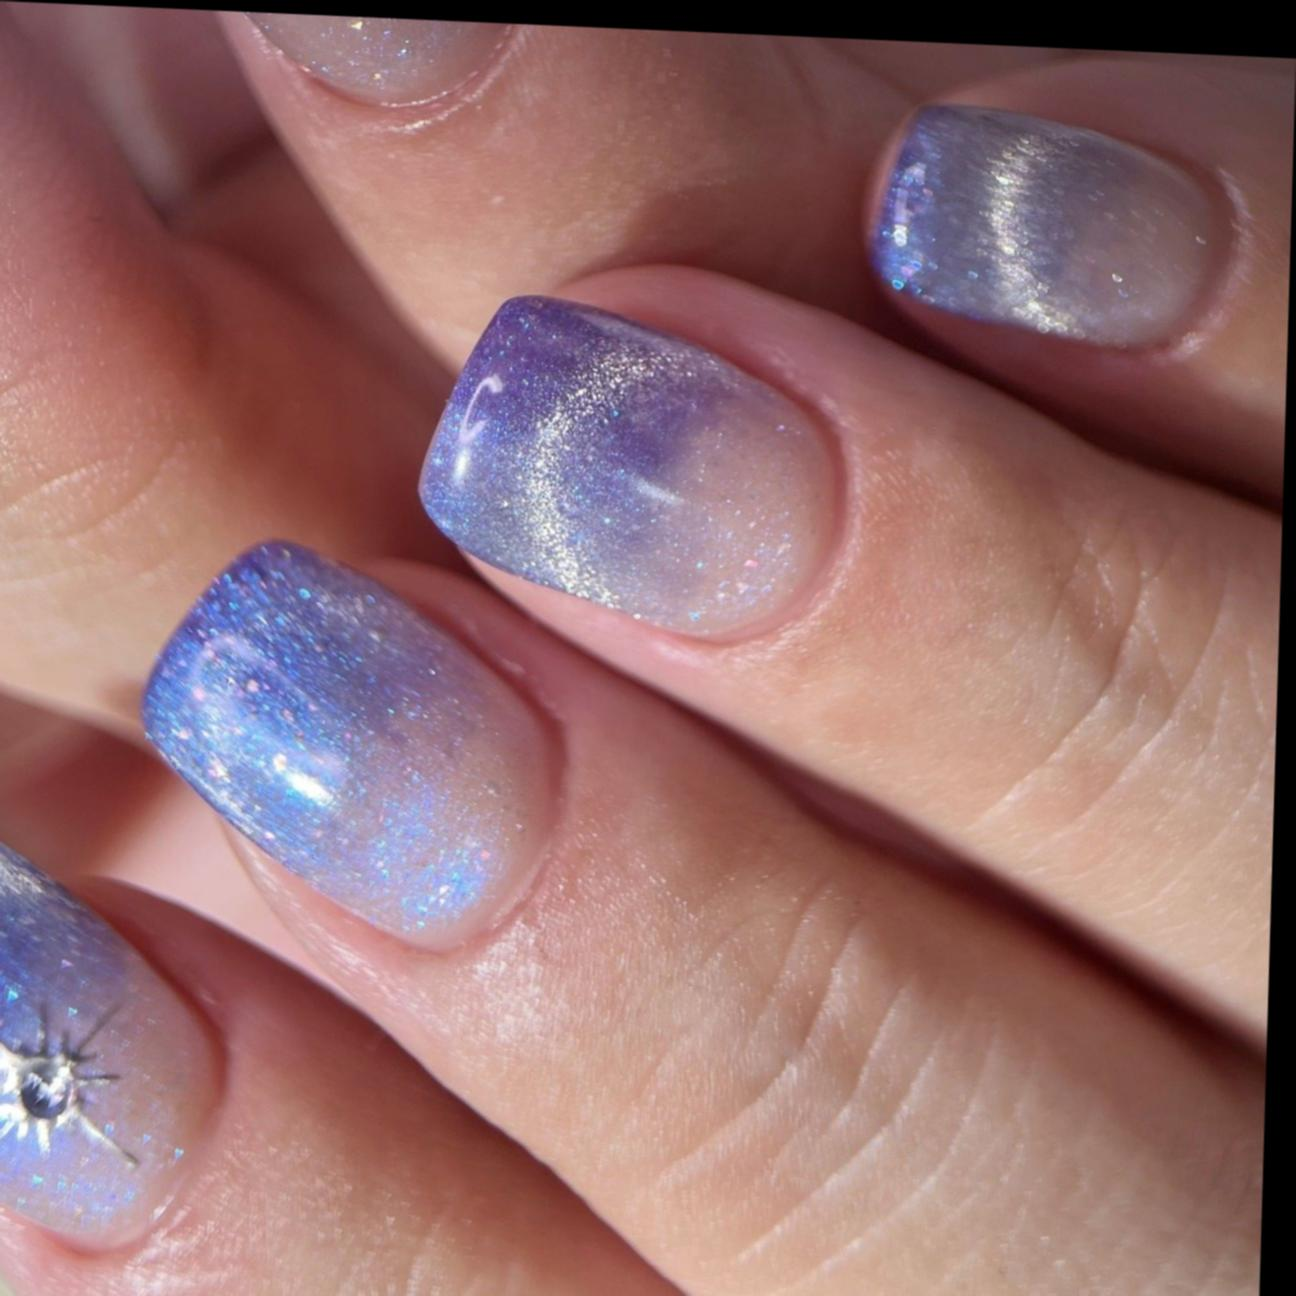nail: (130, 530, 568, 957), (411, 286, 850, 651), (0, 817, 231, 1258), (860, 95, 1242, 360), (190, 9, 528, 120)
